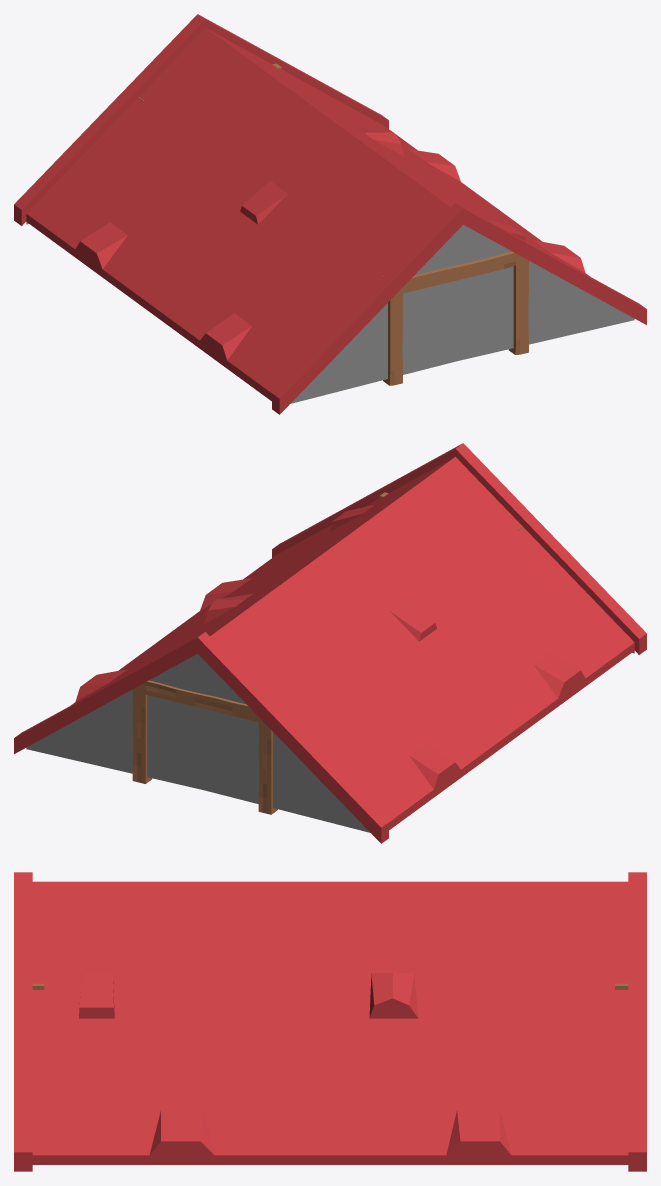
The model's file is Roof.fbx.
3 renders of one model, top to bottom at view 1: azimuth 30°, elevation 25°; view 2: azimuth 150°, elevation 25°; view 3: azimuth 270°, elevation 25°, orthographic. The views are drawn at different scales.
Parts seen in each view (by area): view 1: Plane; view 2: Plane; view 3: Plane.
Part boxes in pixels (bbox=[...]): Plane: bbox=[14, 14, 646, 414]; Plane: bbox=[14, 443, 646, 843]; Plane: bbox=[14, 872, 646, 1171].
Bounding box in the file's own units: 741 × 319 × 929.
